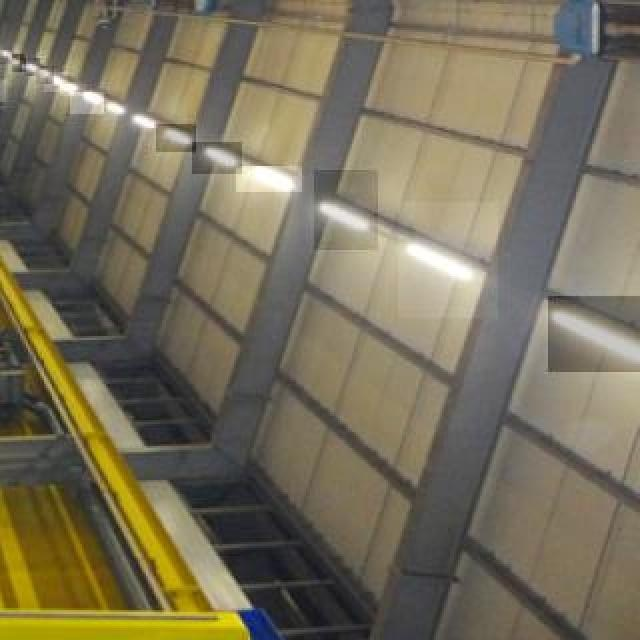fluorescent tube: (400, 218, 482, 298), (542, 303, 640, 354), (307, 182, 375, 234), (233, 160, 318, 198), (191, 145, 244, 171), (158, 120, 195, 153)
